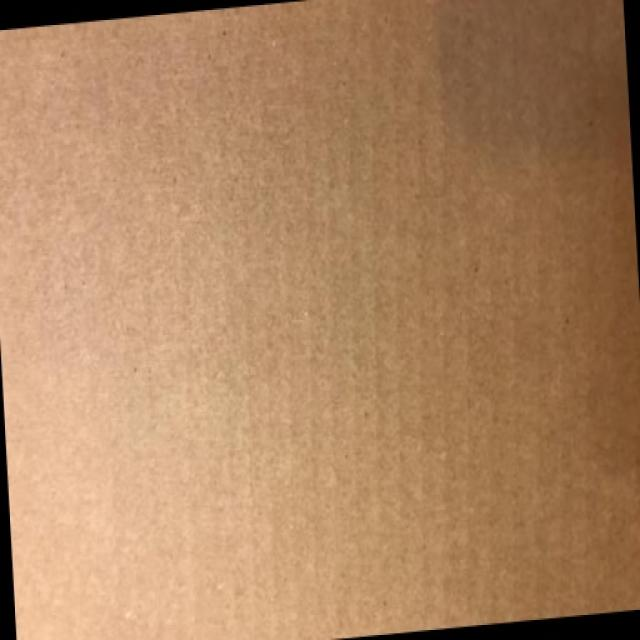carton: (145, 9, 313, 232)
